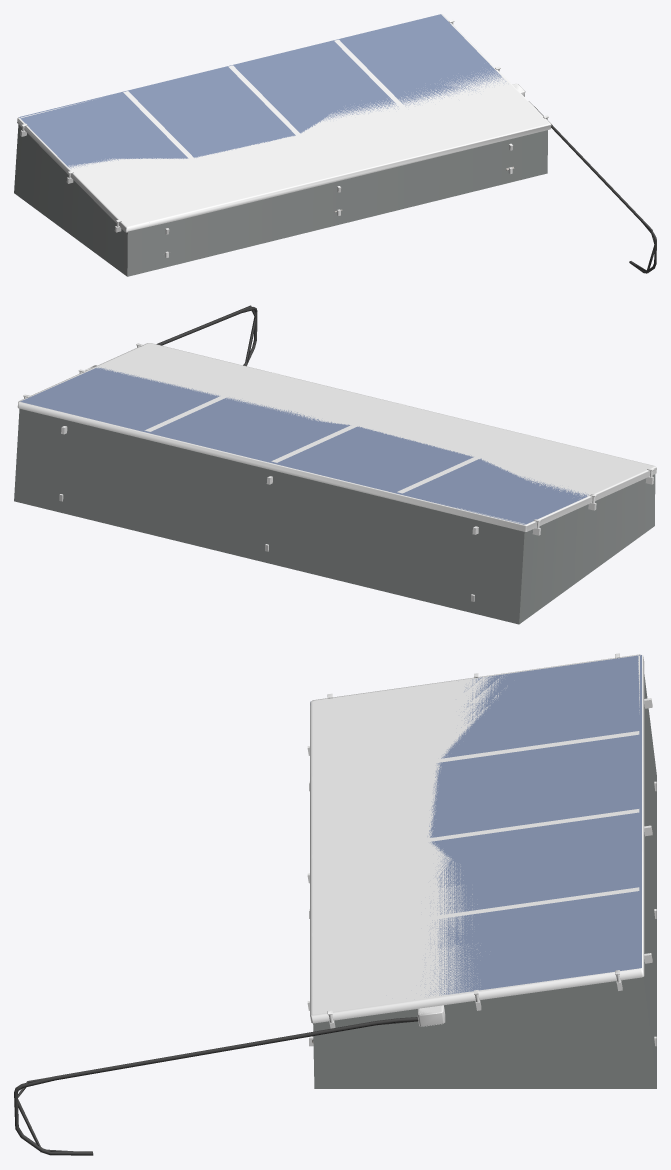
The model's file is si_res_solar_panels.dae.
3 views of the same model, one above another, from view 1: azimuth 30°, elevation 25°; view 2: azimuth 150°, elevation 25°; view 3: azimuth 270°, elevation 25° (orthographic). The views are drawn at different scales.
Parts seen in each view (by area): view 1: si_res_solar_panels_a20, si_res_solar_panels_a700, Colmesh-1, si_res_solar_panels_a110; view 2: Colmesh-1, si_res_solar_panels_a20, si_res_solar_panels_a700; view 3: si_res_solar_panels_a20, si_res_solar_panels_a700, Colmesh-1, si_res_solar_panels_a110.
Boxes of the visible parts, <box> form: si_res_solar_panels_a20: <box>19,14,506,168</box>; si_res_solar_panels_a700: <box>17,14,656,273</box>; Colmesh-1: <box>14,124,547,276</box>; si_res_solar_panels_a110: <box>513,83,654,271</box>; Colmesh-1: <box>14,409,655,624</box>; si_res_solar_panels_a20: <box>19,367,588,531</box>; si_res_solar_panels_a700: <box>17,307,656,601</box>; si_res_solar_panels_a20: <box>310,655,641,995</box>; si_res_solar_panels_a700: <box>14,653,656,1155</box>; Colmesh-1: <box>313,674,656,1088</box>; si_res_solar_panels_a110: <box>18,655,639,1155</box>.
Bounding box in the file's own units: 3.49 × 2.92 × 0.9078.
